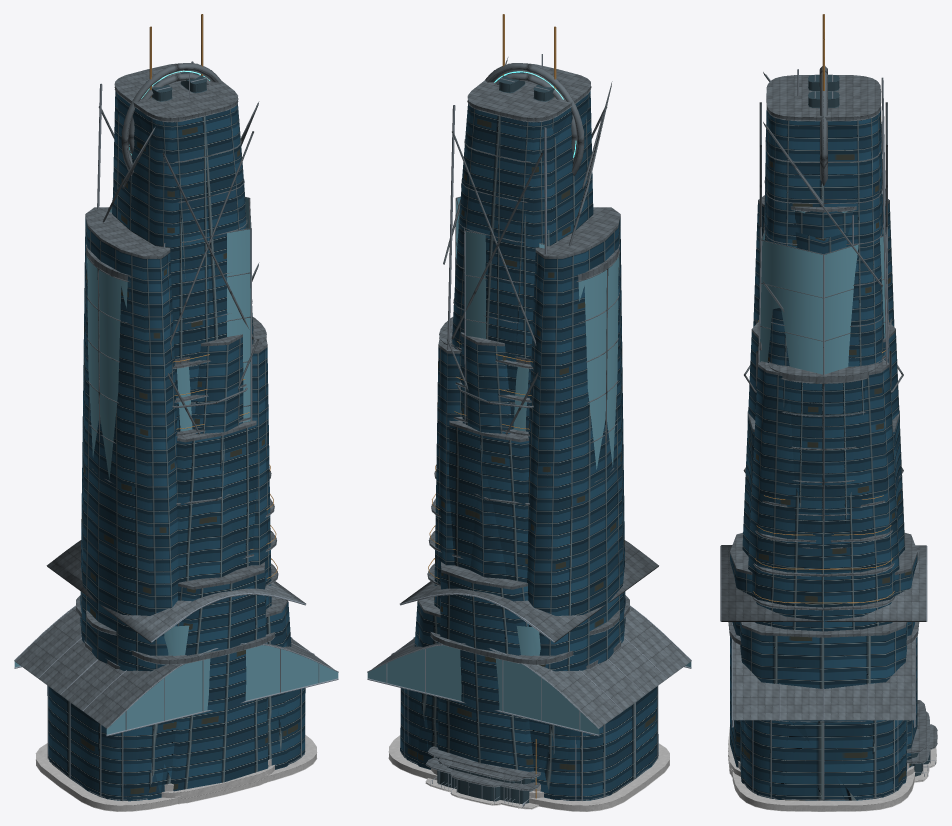
The model's file is city-modules.glb.
3 views of the same model, side by side, from view 1: azimuth 30°, elevation 25°; view 2: azimuth 150°, elevation 25°; view 3: azimuth 270°, elevation 25° (orthographic).
Visible parts, largest first — view 1: split_office_far_Blue laminated glazing, transit_station_far_Blue laminated glazing, lattice_tower_far_Blue laminated glazing, terrace_residence_far_Blue laminated glazing, expo_hall_near_Blue laminated glazing, lattice_tower_near_Blue laminated glazing, spindle_office_far_Blue laminated glazing, lattice_tower_near_Blue laminated glazing.001, expo_hall_near_Coated architectural alloy, expo_hall_near_Silver blue glazing, lattice_tower_near_Coated architectural alloy, expo_hall_near_Blue laminated glazing.001 (+22 smaller); view 2: split_office_far_Blue laminated glazing, transit_station_far_Blue laminated glazing, lattice_tower_far_Blue laminated glazing, terrace_residence_far_Blue laminated glazing, lattice_tower_near_Blue laminated glazing, expo_hall_near_Coated architectural alloy, expo_hall_near_Blue laminated glazing, spindle_office_far_Blue laminated glazing, lattice_tower_near_Blue laminated glazing.001, expo_hall_near_Silver blue glazing.001, lattice_tower_near_Coated architectural alloy, expo_hall_near_Blue laminated glazing.001 (+21 smaller); view 3: split_office_far_Blue laminated glazing, lattice_tower_near_Blue laminated glazing, expo_hall_near_Blue laminated glazing, expo_hall_far_Blue laminated glazing, blade_tower_near_Silver blue glazing.001, split_office_near_Blue laminated glazing, expo_hall_near_Coated architectural alloy, split_office_near_Blue laminated glazing.001, lattice_tower_near_Coated architectural alloy, lattice_tower_near_Blue laminated glazing.001, expo_hall_near_Blue laminated glazing.001, transit_station_near_Coated architectural alloy (+27 smaller).
Part boxes in pixels (x1,y1,x2,y2): split_office_far_Blue laminated glazing: (80, 217, 271, 671); transit_station_far_Blue laminated glazing: (170, 568, 268, 791); lattice_tower_far_Blue laminated glazing: (112, 91, 209, 431); terrace_residence_far_Blue laminated glazing: (177, 424, 256, 582); expo_hall_near_Blue laminated glazing: (48, 686, 304, 800); lattice_tower_near_Blue laminated glazing: (181, 104, 253, 356); spindle_office_far_Blue laminated glazing: (193, 337, 243, 578); lattice_tower_near_Blue laminated glazing.001: (115, 92, 253, 429); expo_hall_near_Coated architectural alloy: (17, 606, 330, 800); expo_hall_near_Silver blue glazing: (14, 645, 338, 728); lattice_tower_near_Coated architectural alloy: (102, 63, 257, 404); expo_hall_near_Blue laminated glazing.001: (47, 685, 305, 801); split_office_far_Blue laminated glazing: (434, 217, 625, 671); transit_station_far_Blue laminated glazing: (437, 568, 534, 791); lattice_tower_far_Blue laminated glazing: (496, 91, 593, 431); terrace_residence_far_Blue laminated glazing: (449, 424, 528, 582); lattice_tower_near_Blue laminated glazing: (452, 115, 541, 397); expo_hall_near_Coated architectural alloy: (373, 607, 690, 800); expo_hall_near_Blue laminated glazing: (401, 686, 657, 800); spindle_office_far_Blue laminated glazing: (461, 336, 512, 578); lattice_tower_near_Blue laminated glazing.001: (452, 92, 590, 428); expo_hall_near_Silver blue glazing.001: (367, 628, 691, 734); lattice_tower_near_Coated architectural alloy: (443, 60, 611, 404); expo_hall_near_Blue laminated glazing.001: (400, 687, 658, 800); split_office_far_Blue laminated glazing: (748, 203, 899, 631); lattice_tower_near_Blue laminated glazing: (764, 110, 884, 366); expo_hall_near_Blue laminated glazing: (743, 720, 903, 800); expo_hall_far_Blue laminated glazing: (740, 622, 907, 783); blade_tower_near_Silver blue glazing.001: (762, 231, 885, 374); split_office_near_Blue laminated glazing: (782, 379, 865, 527); expo_hall_near_Coated architectural alloy: (732, 640, 926, 800); split_office_near_Blue laminated glazing.001: (784, 380, 865, 552); lattice_tower_near_Coated architectural alloy: (764, 74, 883, 367); lattice_tower_near_Blue laminated glazing.001: (766, 107, 882, 363); expo_hall_near_Blue laminated glazing.001: (741, 720, 906, 800); transit_station_near_Coated architectural alloy: (721, 545, 937, 749).
Size of the model in its own units: 36.14 by 110 by 29.64.
Materials: 9 (4 with a texture image).
